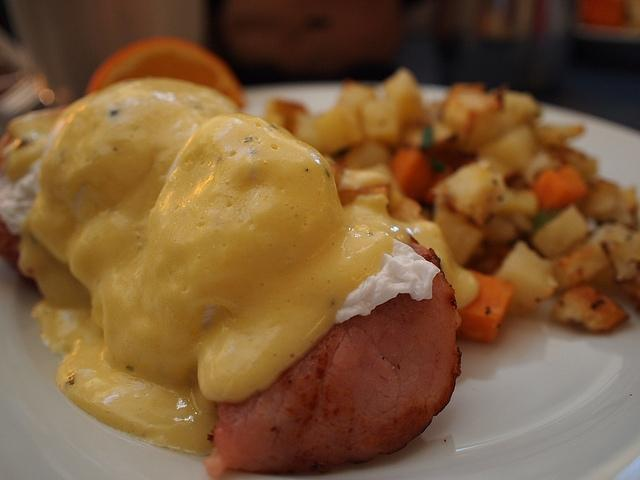carrot: (456, 268, 516, 344), (532, 162, 590, 214), (386, 147, 434, 202), (418, 148, 454, 207)
orange: (85, 36, 244, 107)
potato: (492, 242, 560, 317), (432, 179, 484, 267), (550, 285, 631, 334), (436, 82, 504, 139), (550, 236, 612, 295), (476, 122, 536, 180), (530, 204, 588, 262), (455, 110, 517, 154), (312, 105, 363, 155), (600, 222, 640, 284), (360, 162, 404, 214), (594, 187, 639, 231), (578, 179, 621, 219), (500, 87, 543, 124), (382, 66, 422, 105), (265, 98, 308, 134), (344, 140, 393, 170), (491, 188, 540, 216), (362, 102, 398, 140), (565, 148, 602, 184), (480, 214, 520, 246), (534, 124, 585, 149), (338, 168, 393, 191), (337, 79, 376, 106), (400, 114, 429, 150), (522, 150, 550, 186)
